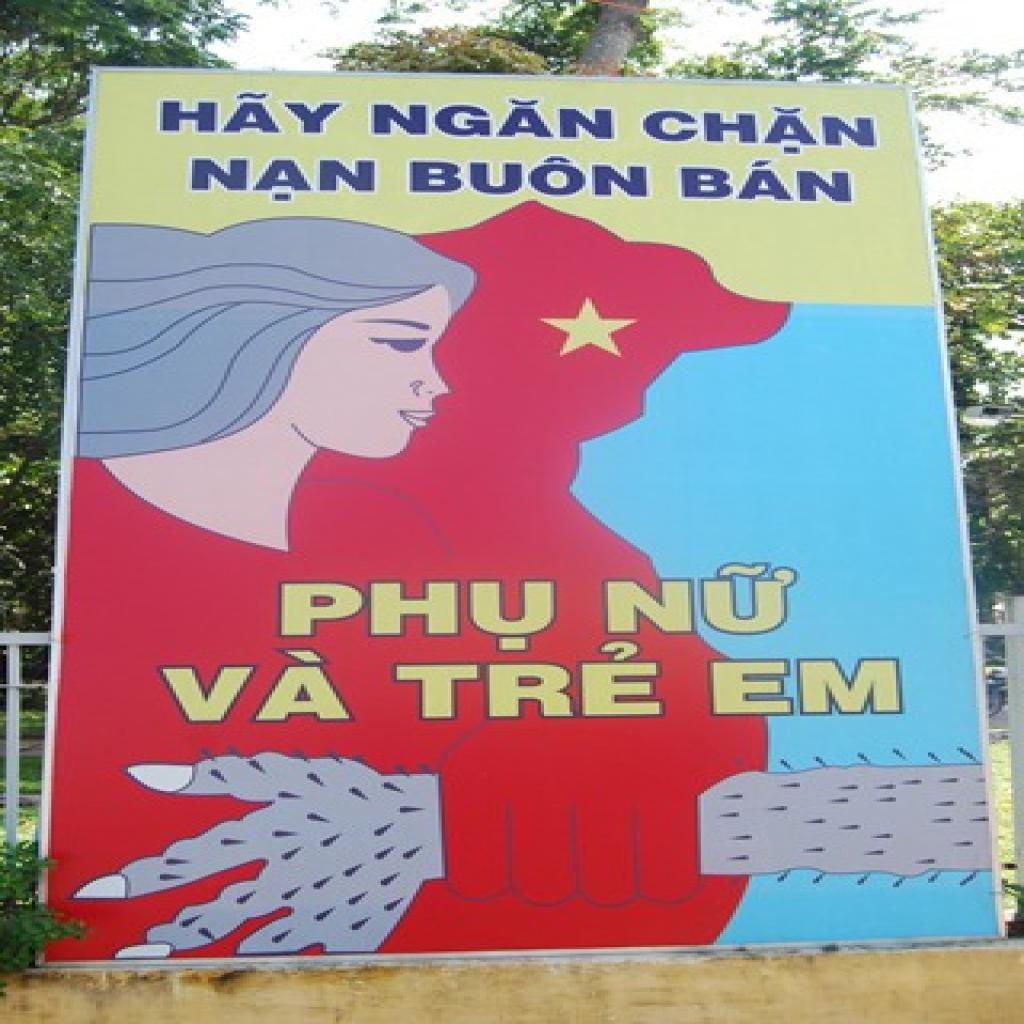text: (384, 635, 682, 731), (266, 571, 566, 656), (592, 558, 822, 639), (154, 648, 368, 731), (637, 98, 909, 156), (403, 148, 659, 208), (368, 90, 627, 143), (179, 148, 387, 205), (669, 158, 864, 214), (157, 85, 349, 137)
